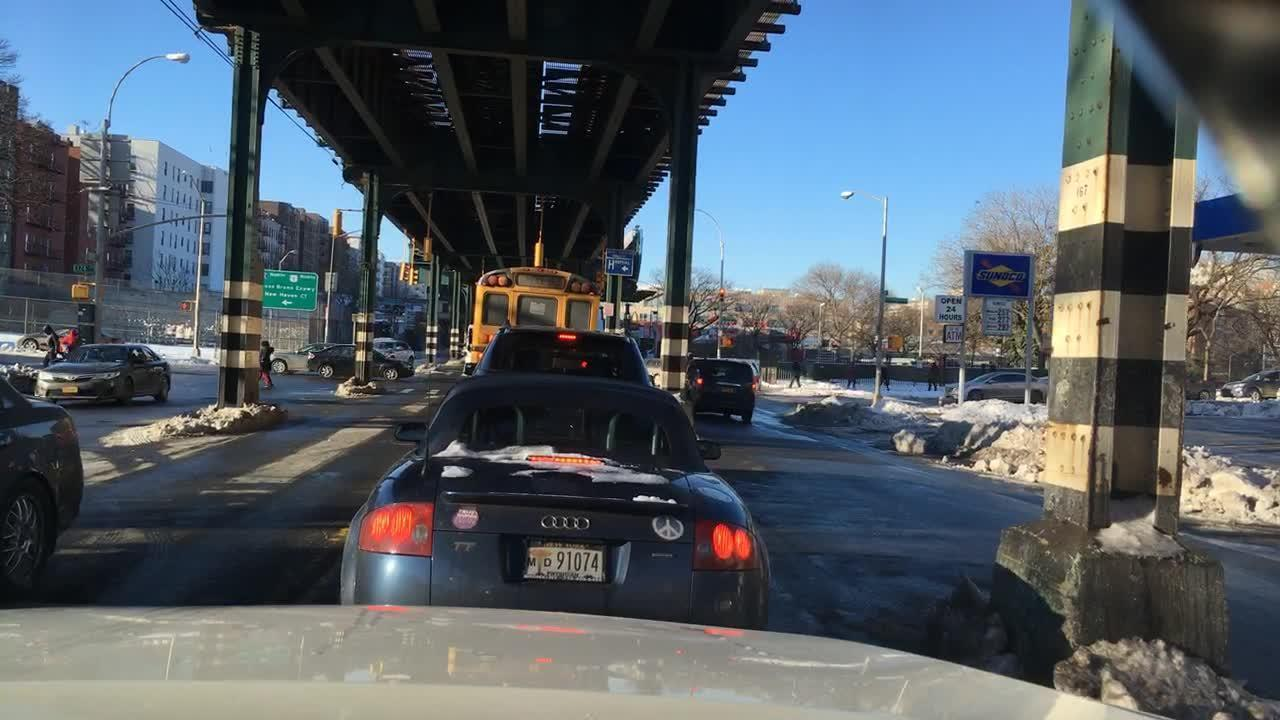Audi: (526, 504, 599, 540)
